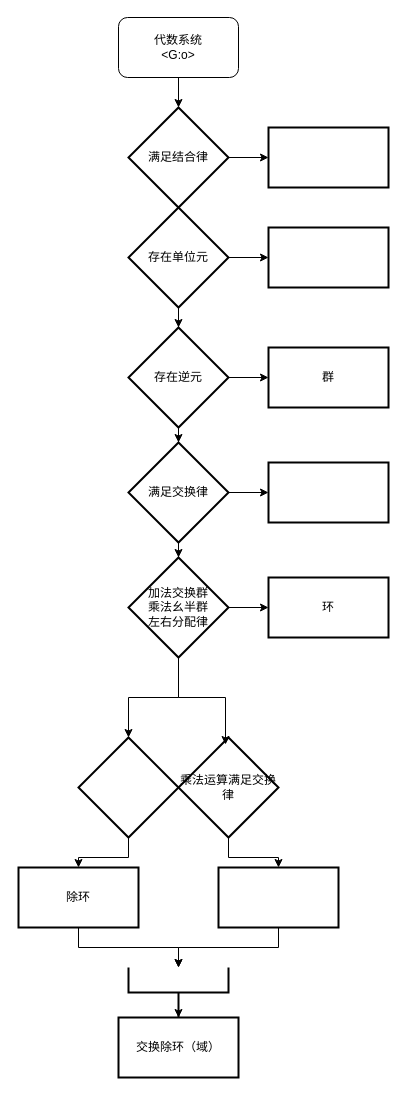
The diagram is 406 pixels wide and 1096 high, and some of its shapes have lost their labels. Here are the shapes that lost their labels. From the top down, the centre of each, then its label:
At point 328,157: "半群".
At point 328,257: "含幺半群 （幺半群）".
At point 328,492: "Abel群 （交换群）".
At point 128,787: "非零加法元素 关于0都有逆元".
At point 278,897: "交换环".
